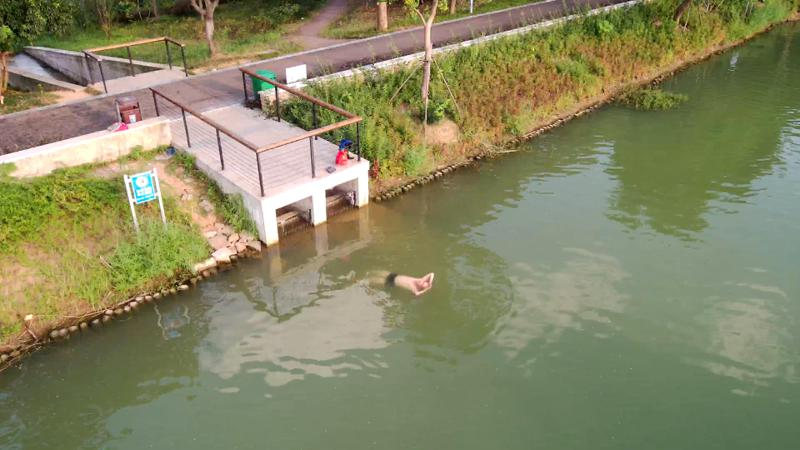swimmers: (364, 269, 435, 297)
